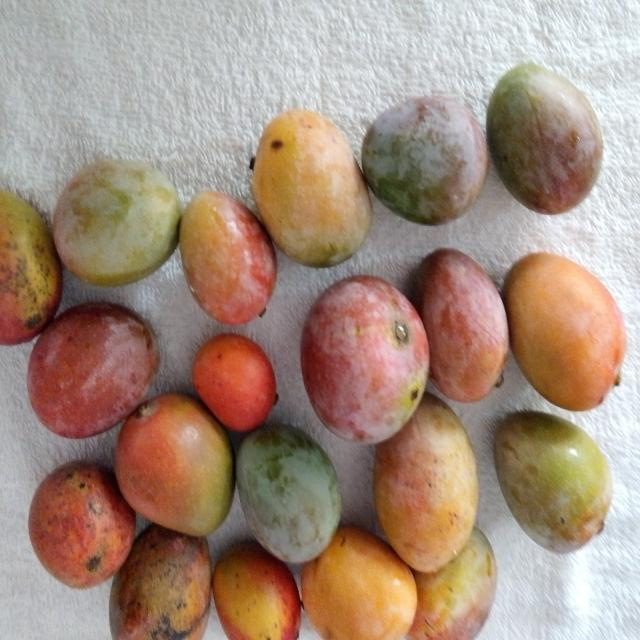mango: (303, 282, 432, 448), (248, 107, 374, 270), (502, 251, 628, 405), (491, 410, 609, 565), (53, 155, 185, 290), (27, 308, 160, 438), (176, 186, 282, 333), (234, 426, 345, 566), (415, 254, 511, 403), (108, 516, 222, 640), (26, 460, 136, 588)
